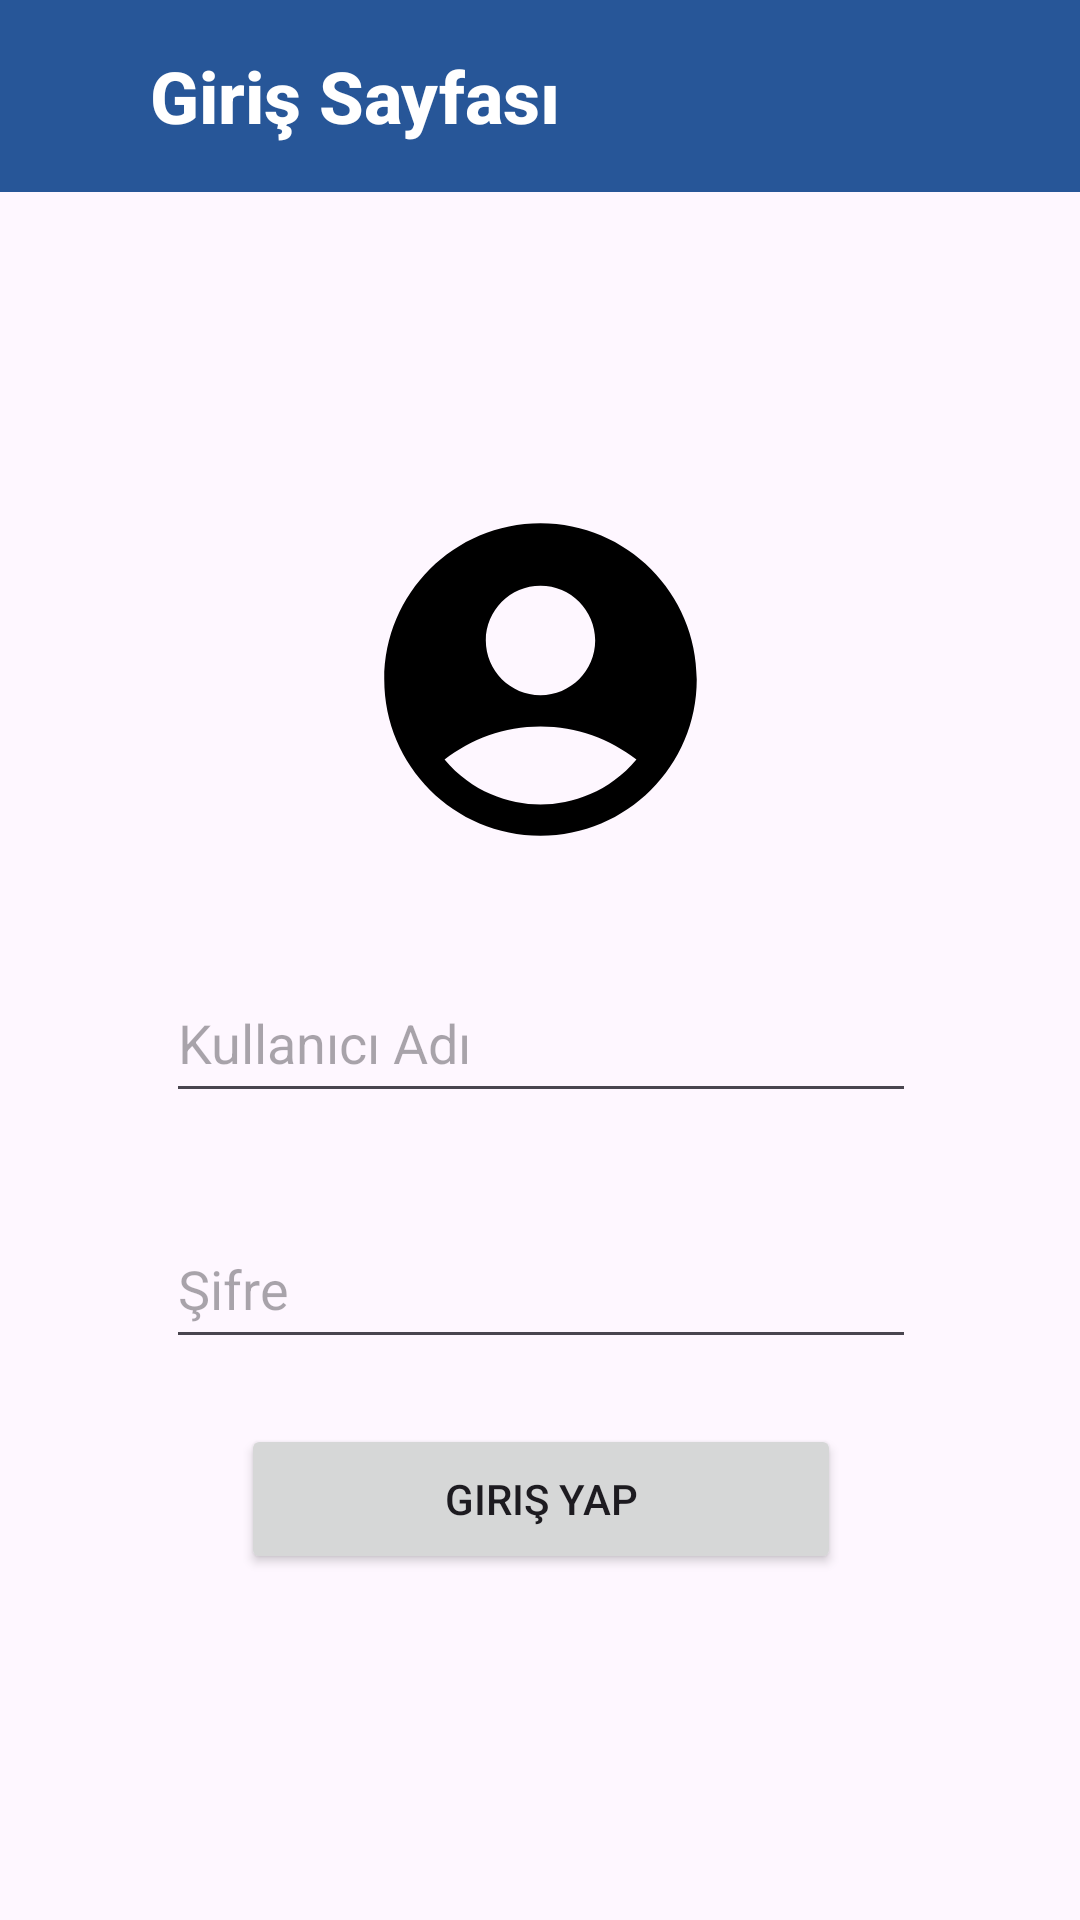

Icons on this 1080*1920 Android screen, each with the point to tap as (x=x, y=y):
account circle: (x=540, y=679)
